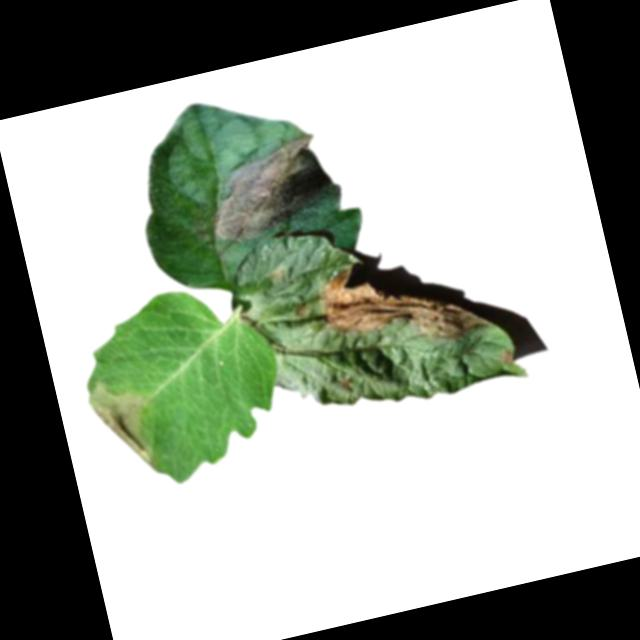Late_blight: (311, 236, 488, 369), (190, 129, 346, 250), (80, 371, 163, 476), (496, 346, 514, 364)
